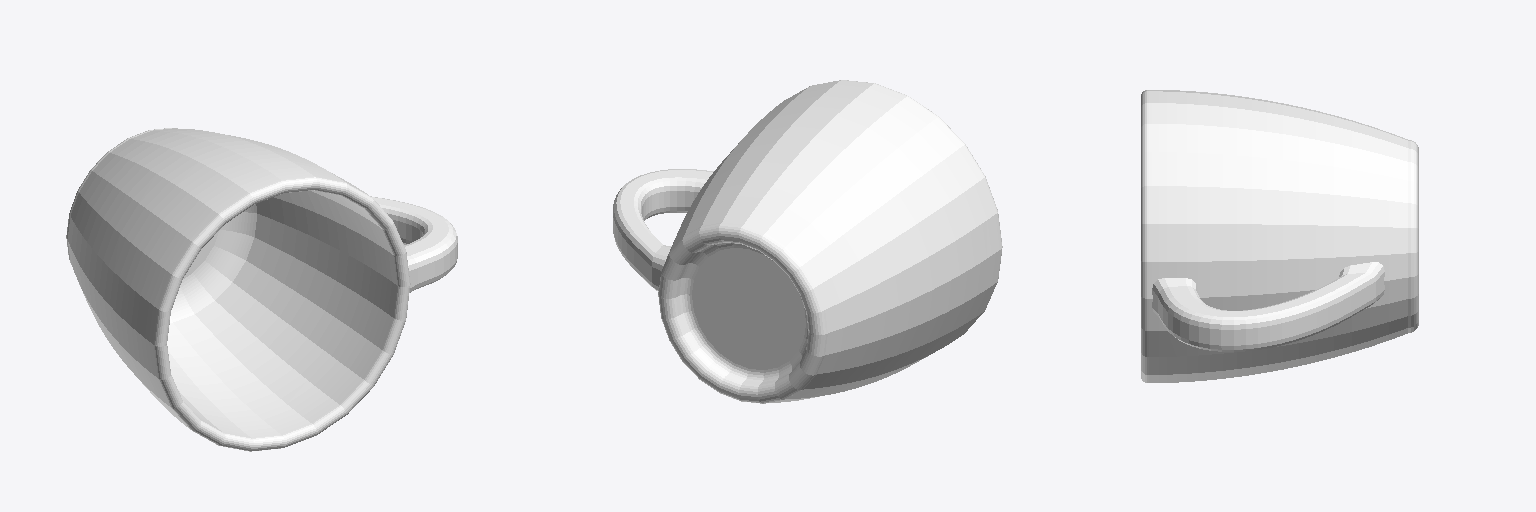
The model's file is EspressoCup.obj.
3 views of the same model, side by side, from view 1: azimuth 30°, elevation 25°; view 2: azimuth 150°, elevation 25°; view 3: azimuth 270°, elevation 25° (orthographic).
Parts seen in each view (by area): view 1: EspressoCup_SM_EspressoCup; view 2: EspressoCup_SM_EspressoCup; view 3: EspressoCup_SM_EspressoCup.
Part boxes in pixels (x1,y1,x2,y2): EspressoCup_SM_EspressoCup: (66,128,457,451); EspressoCup_SM_EspressoCup: (613,80,1002,403); EspressoCup_SM_EspressoCup: (1141,90,1418,382).
Bounding box in the file's own units: 0.0851 × 0.0648 × 0.061.